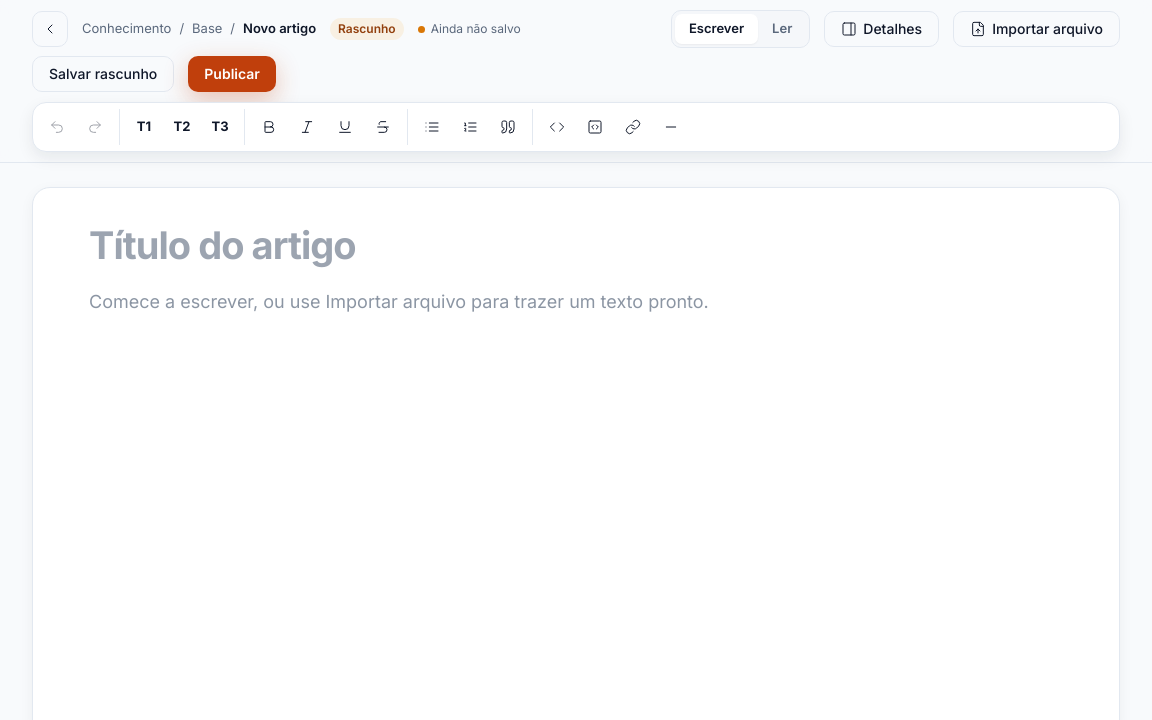
Test case: ArticleEditor: barra de formatação › "Inserir link" abre a janela própria (não o window.prompt)
Expected: the element named "Formatação" is shown, [32,102,1120,152]
Click the button named "Inserir link" at (633, 127), box [615,109,651,145]
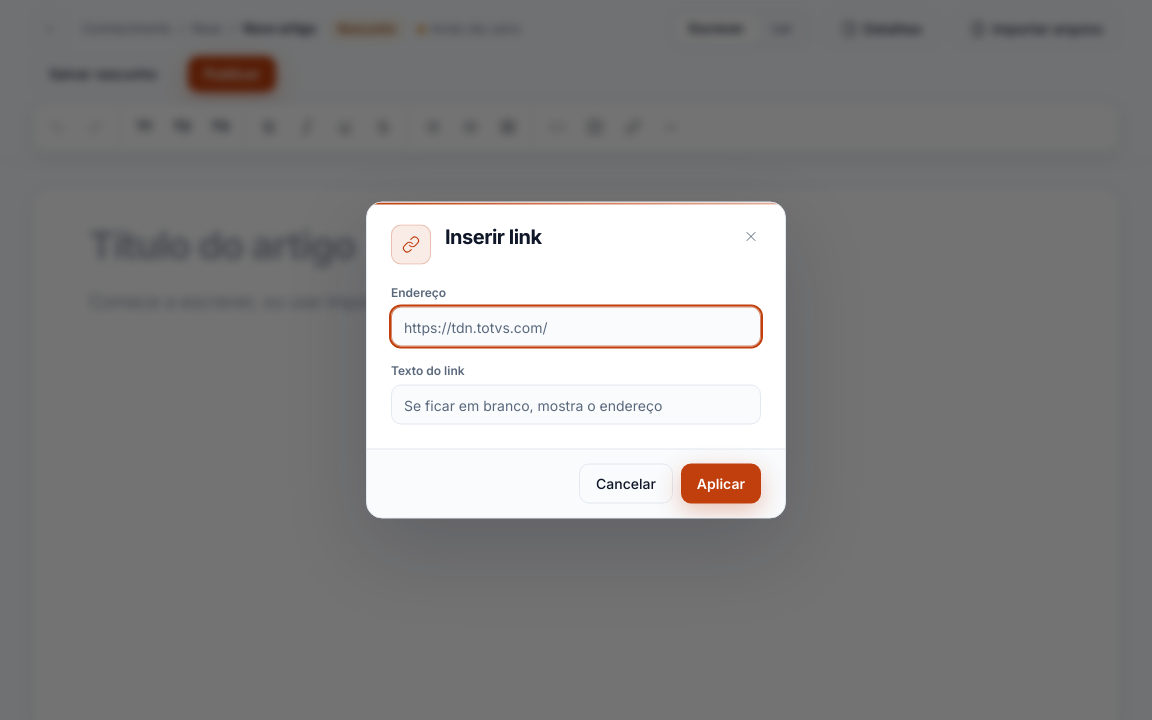
Expected: the dialog "Inserir link" is shown, [366,202,786,518]
